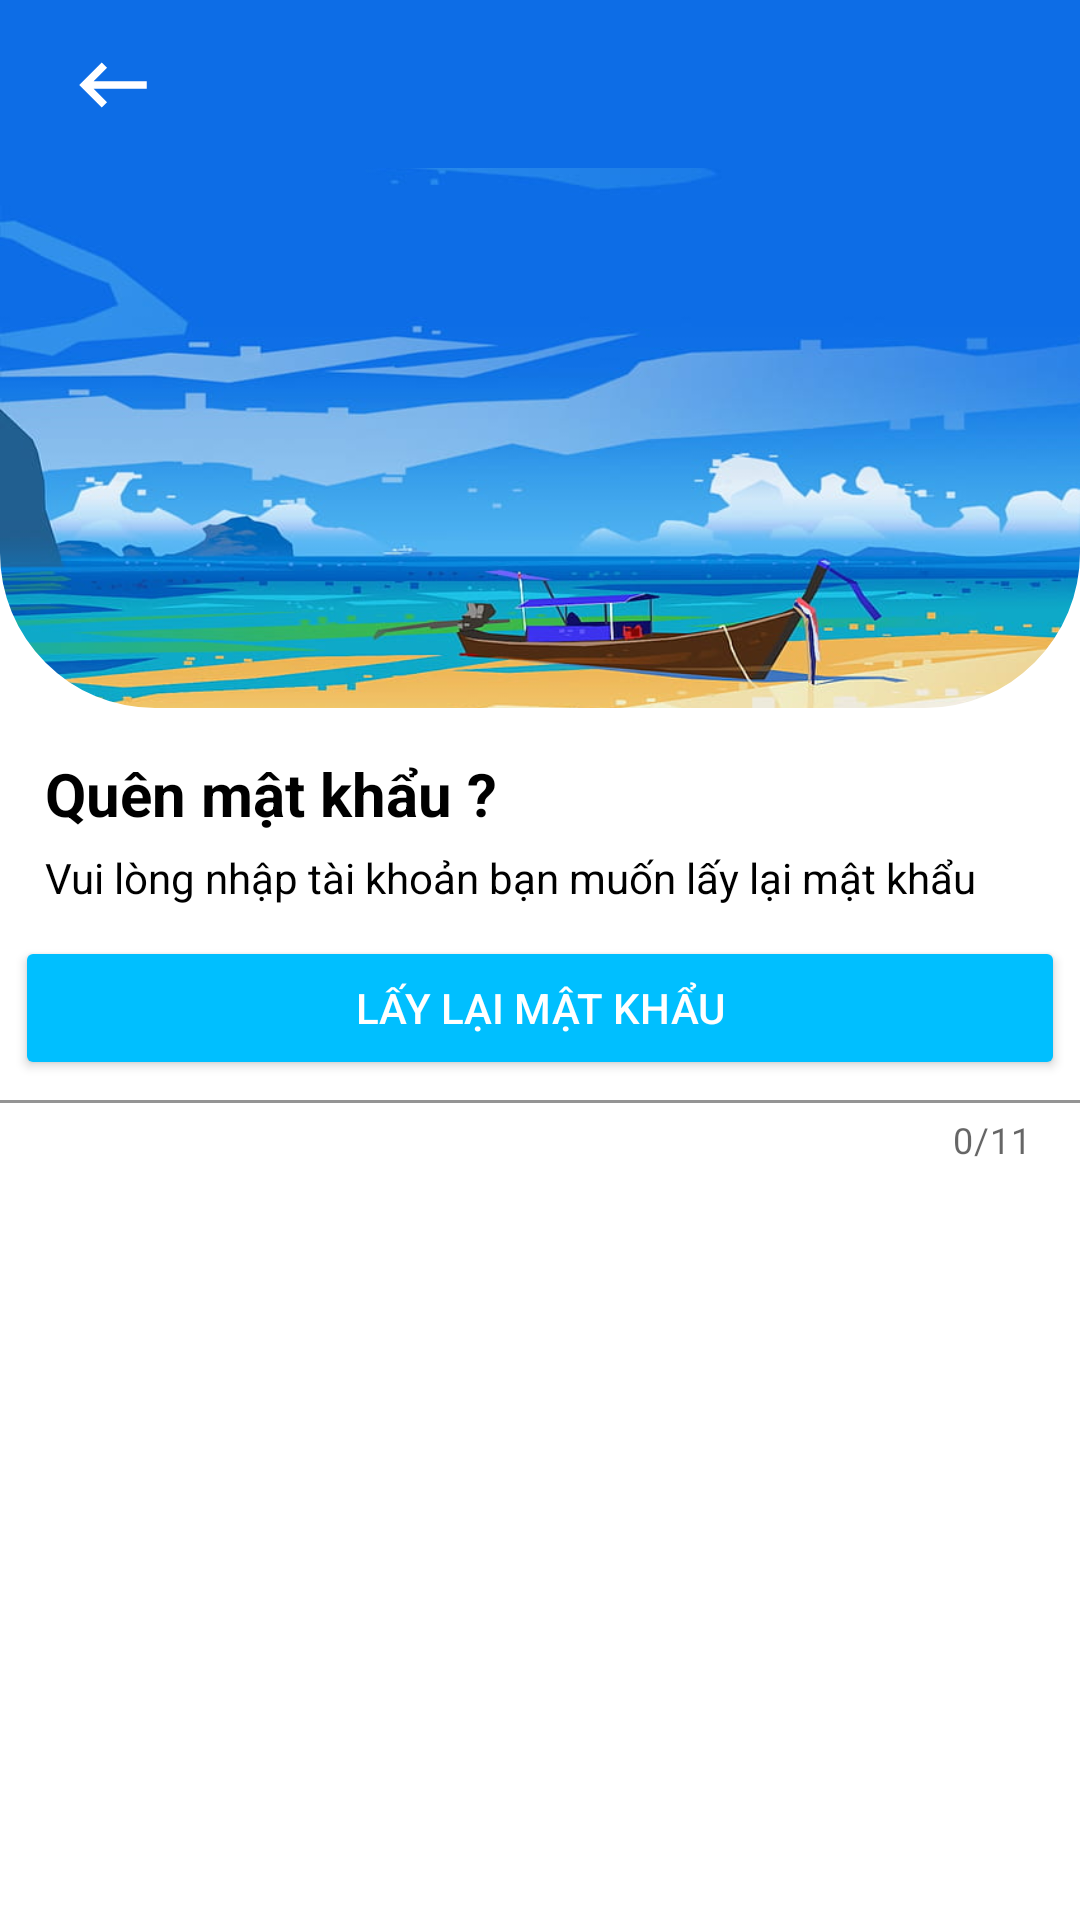

Icon click points for this 1080x1920 phone screenshot, format point (x, y):
Back: point (113, 85)
